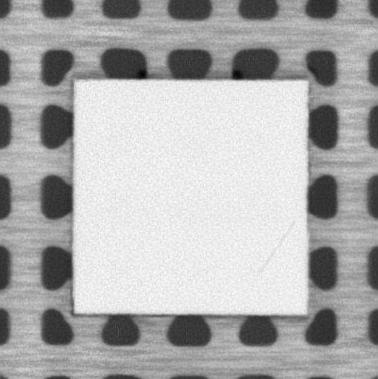DIE_CRACK: (256, 222, 296, 276)
